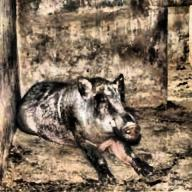boar: (23, 62, 156, 172)
